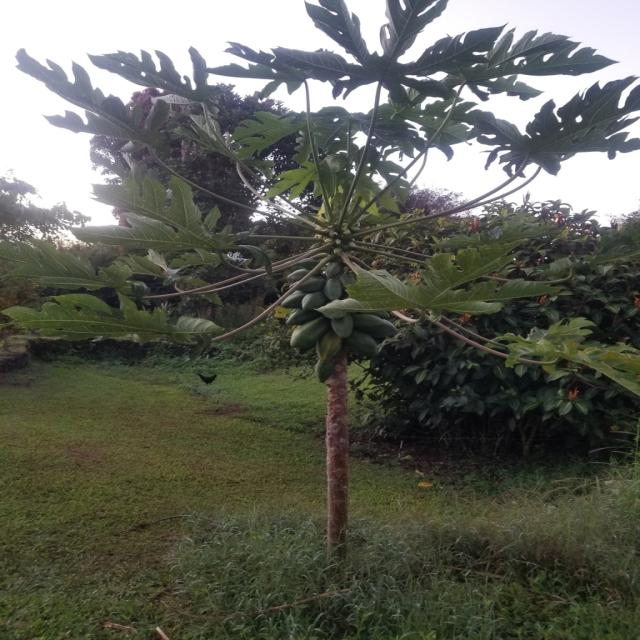Papaya-Tree: (8, 5, 640, 519)
